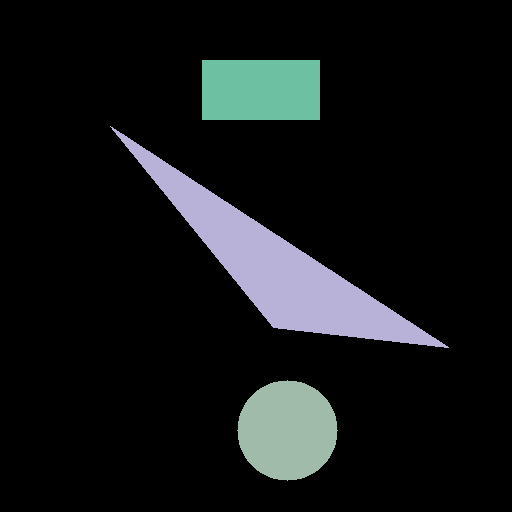circle: (237, 380, 337, 480)
rectangle: (202, 60, 319, 119)
triangle: (110, 126, 448, 347)
